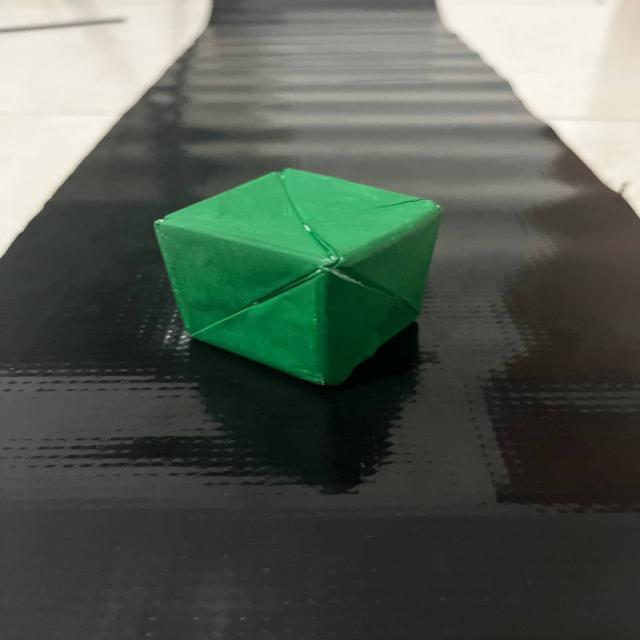Verde: (140, 150, 457, 400)
